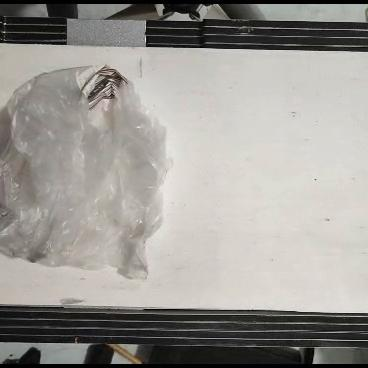Plastik: (0, 64, 174, 278)
